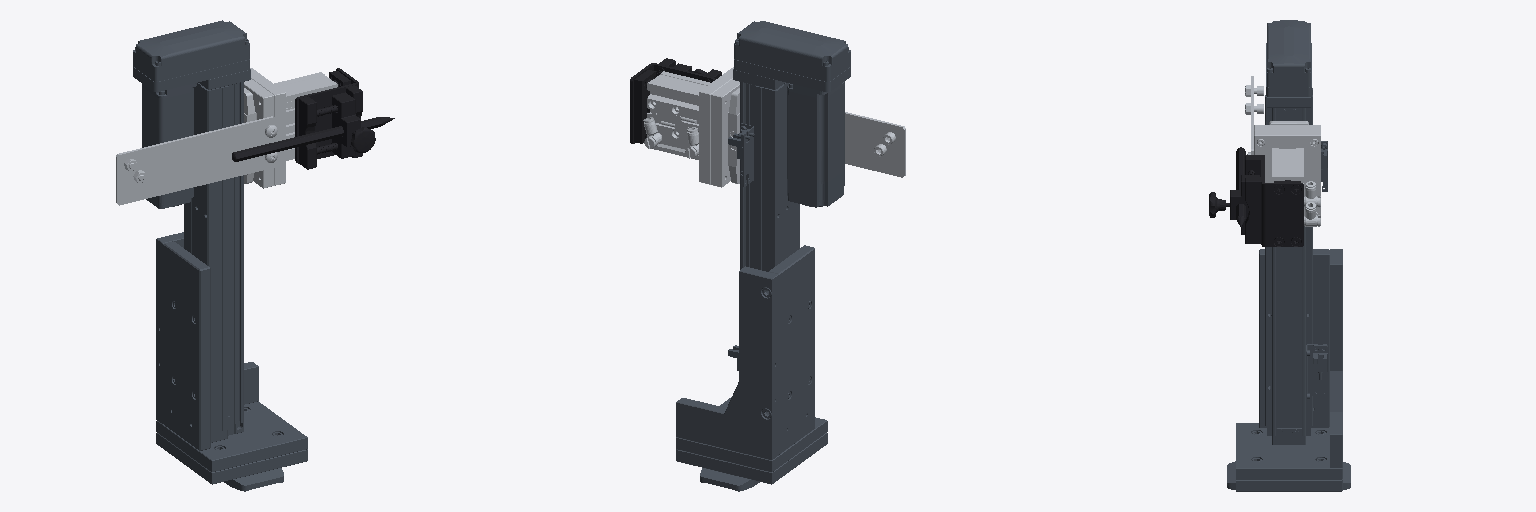
robot.urdf — new_Gantry:
<?xml version="1.0"?>
<!--
  Robot: new_Gantry
  Generated by: LinkForge v1.4.4
  https://github.com/arounamounchili/linkforge
  Date: 2026-10-07 06:36:48
-->
<robot name="new_Gantry">
  <!-- Links -->
  <link name="L0">
    <inertial>
      <origin xyz="-0.001124 -0.031007 0.217957" rpy="0 0 -1.570796" />
      <mass value="1" />
      <inertia ixx="0.166667" ixy="0" ixz="0" iyy="0.166667" iyz="0" izz="0.166667" />
    </inertial>
    <visual>
      <origin xyz="0.031007 -0.001124 0.217957" rpy="0 0 0" />
      <material name="anodized_silver">
        <color rgba="0.75 0.77 0.80 1.0" />
      </material>
      <geometry>
        <mesh filename="package://gantry_description/meshes/L0_visual.stl" />
      </geometry>
    </visual>
    <collision>
      <origin xyz="-0.001124 -0.031007 0.217957" rpy="0 0 -1.570796" />
      <geometry>
        <mesh filename="package://gantry_description/meshes/L0_visual.stl" />
      </geometry>
    </collision>
  </link>

  <link name="L1">
    <inertial>
      <origin xyz="0.068993 -0.128876 0.088209" rpy="0 0 -1.570796" />
      <mass value="1" />
      <inertia ixx="0.166667" ixy="0" ixz="0" iyy="0.166667" iyz="0" izz="0.166667" />
    </inertial>
    <visual>
      <origin xyz="-0.02125 0 0.19375" rpy="0 0 0" />
      <material name="titanium_steel">
        <color rgba="0.35 0.38 0.42 1.0" />
      </material>
      <geometry>
        <mesh filename="package://gantry_description/meshes/L1_visual.stl" />
      </geometry>
    </visual>
    <collision>
      <origin xyz="0.068993 -0.128876 0.088209" rpy="0 0 -1.570796" />
      <geometry>
        <mesh filename="package://gantry_description/meshes/L1_visual.stl" />
      </geometry>
    </collision>
  </link>

  <link name="L2">
    <inertial>
      <origin xyz="-0.045 -0.0045 0" rpy="0 0 0" />
      <mass value="1" />
      <inertia ixx="0.166667" ixy="0" ixz="0" iyy="0.166667" iyz="0" izz="0.166667" />
    </inertial>
    <visual>
      <origin xyz="-0.045 -0.0045 0" rpy="0 0 0" />
      <material name="anodized_silver">
        <color rgba="0.75 0.77 0.80 1.0" />
      </material>
      <geometry>
        <mesh filename="package://gantry_description/meshes/L2_visual.stl" />
      </geometry>
    </visual>
    <collision>
      <origin xyz="-0.045 -0.0045 0" rpy="0 0 0" />
      <geometry>
        <mesh filename="package://gantry_description/meshes/L2_visual.stl" />
      </geometry>
    </collision>
  </link>

  <link name="L3_001">
    <inertial>
      <origin xyz="-0.060965 -0.020426 -0.410077" rpy="0 0 -1.570797" />
      <mass value="1" />
      <inertia ixx="0.166667" ixy="0" ixz="0" iyy="0.166667" iyz="0" izz="0.166667" />
    </inertial>
    <visual>
      <origin xyz="-0.084951 0.014441 0" rpy="0 0 0" />
      <material name="industrial_charcoal">
        <color rgba="0.18 0.18 0.20 1.0" />
      </material>
      <geometry>
        <mesh filename="package://gantry_description/meshes/L3_visual.stl" />
      </geometry>
    </visual>
    <collision>
      <origin xyz="-0.060965 -0.020426 -0.410077" rpy="0 0 -1.570797" />
      <geometry>
        <mesh filename="package://gantry_description/meshes/L3_visual.stl" />
      </geometry>
    </collision>
  </link>

  <!-- Joints -->
  <joint name="L1_joint" type="prismatic">
    <origin xyz="-0.068993 0.150126 0.105541" rpy="0 0 0" />
    <parent link="L0" />
    <child link="L1" />
    <axis xyz="0 -1 0" />
    <limit effort="10" velocity="1" lower="0.0" upper="0.297" />
  </joint>
  
  <joint name="L2_joint" type="prismatic">
    <origin xyz="0.0254 -0.00125 0.304536" rpy="0 0 0" />
    <parent link="L1" />
    <child link="L2" />
    <axis xyz="0 0 -1" />
    <limit effort="10" velocity="1" lower="0.0" upper="0.210" />
  </joint>
  
  <joint name="L3_001_joint" type="prismatic">
    <origin xyz="0.119 -0.0435 0" rpy="0 0 0" />
    <parent link="L2" />
    <child link="L3_001" />
    <axis xyz="1 0 0" />
    <limit effort="10" velocity="1" lower="0.0" upper="0.0326" />
  </joint>
</robot>

--- What the picture shows (computed from the rendered views, not written in the file) ---
Views: 3 orthographic renders of the robot side by side, from view 1: azimuth 30°, elevation 25°; view 2: azimuth 150°, elevation 25°; view 3: azimuth 270°, elevation 25°.
Model new_Gantry with 4 links and 3 joints (3 prismatic), rooted at L0, posed every joint at zero.
Visible links, largest first — view 1: L1, L2, L3_001; view 2: L1, L2, L3_001; view 3: L1, L3_001, L2.
Link boxes in pixels (bbox=[...]): L1: bbox=[133, 20, 307, 491]; L2: bbox=[116, 68, 337, 205]; L3_001: bbox=[232, 68, 394, 169]; L1: bbox=[676, 21, 850, 491]; L2: bbox=[643, 67, 905, 187]; L3_001: bbox=[630, 58, 721, 143]; L1: bbox=[1227, 20, 1350, 491]; L3_001: bbox=[1209, 147, 1303, 246]; L2: bbox=[1245, 76, 1320, 226].
Bounding box of the posed robot: 0.284 × 0.1329 × 0.4325 m (x, y, z).
Meshes: 4 distinct files referenced, 3 mesh visuals loaded (3 binary STL); not drawn: 1 (reference not matched to a file when rendering).
